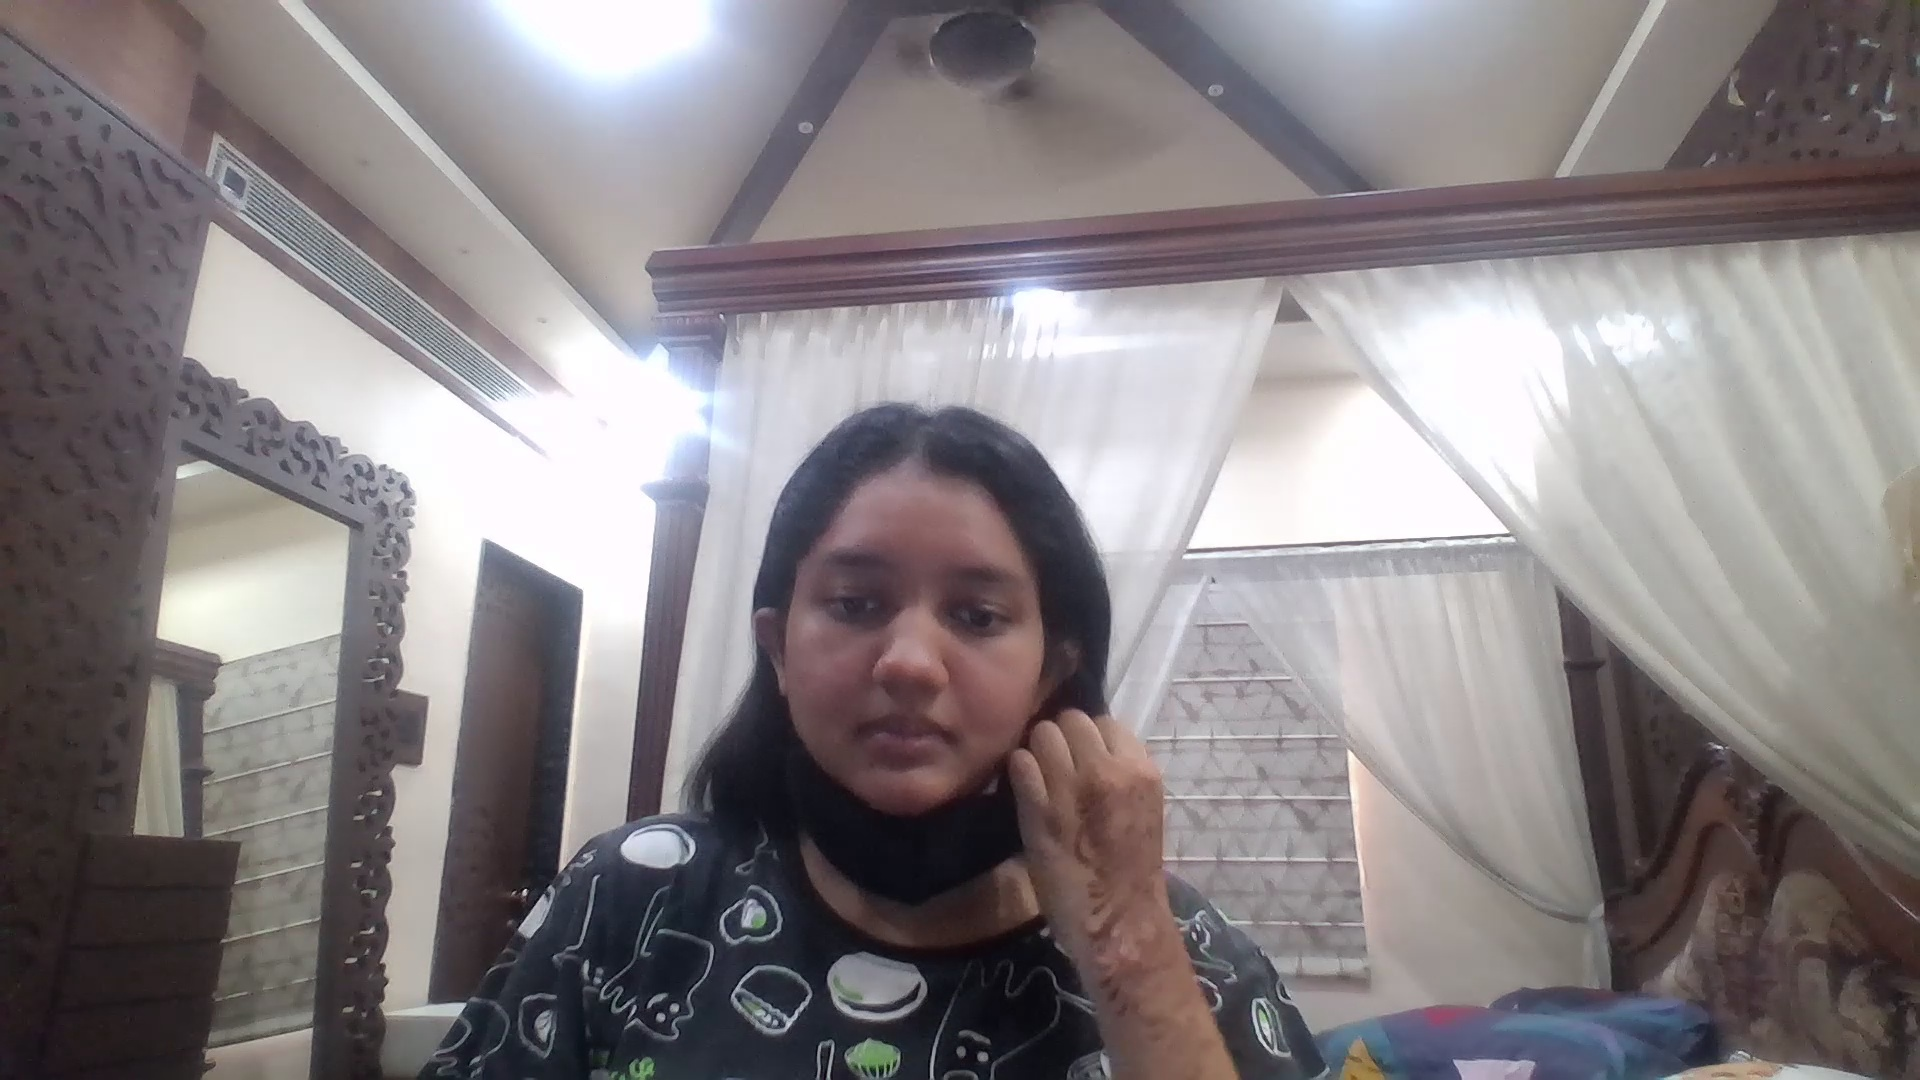No Mask: (789, 650, 1053, 822)
